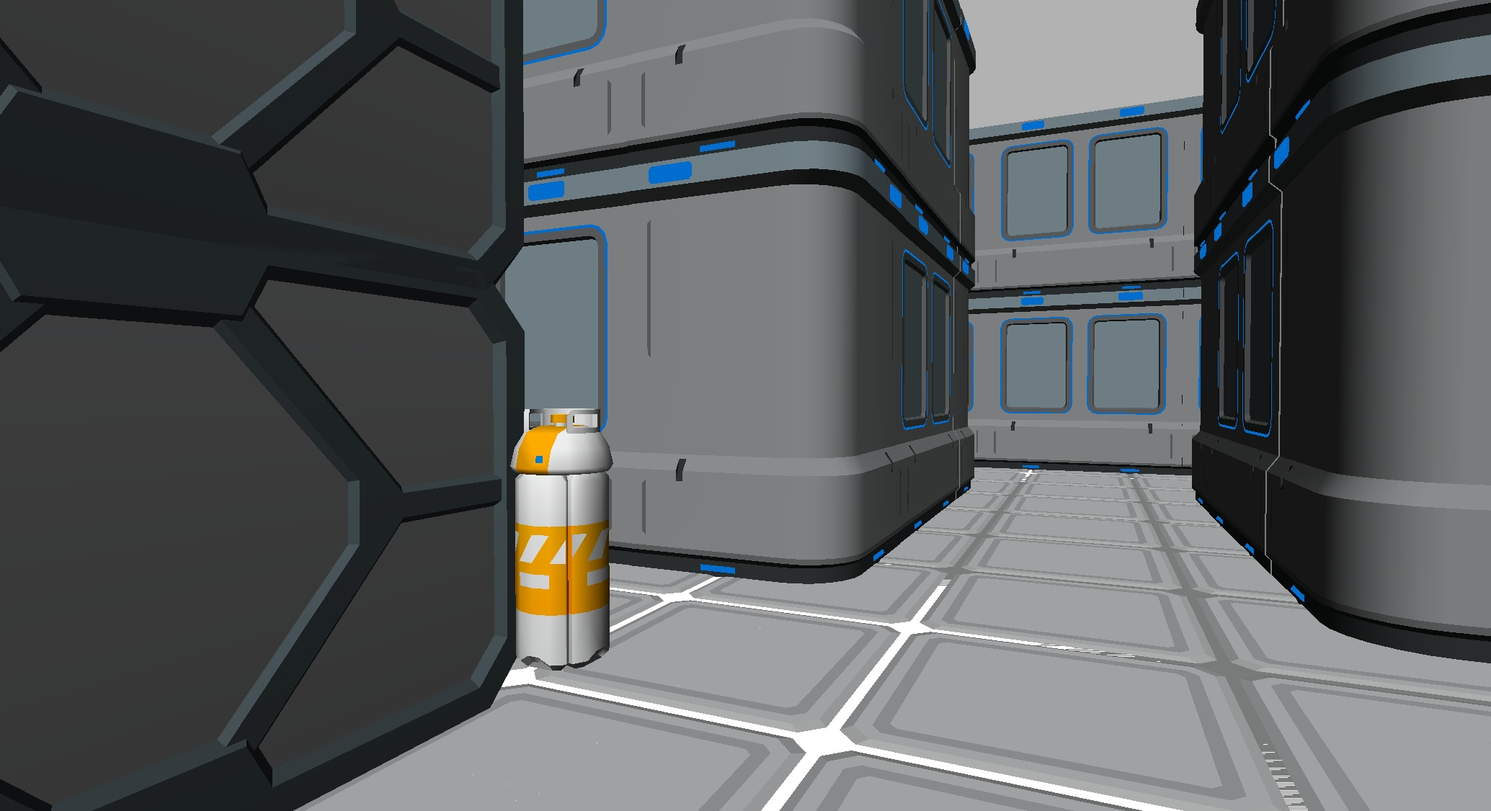yellow_barrel: (515, 409, 612, 669)
